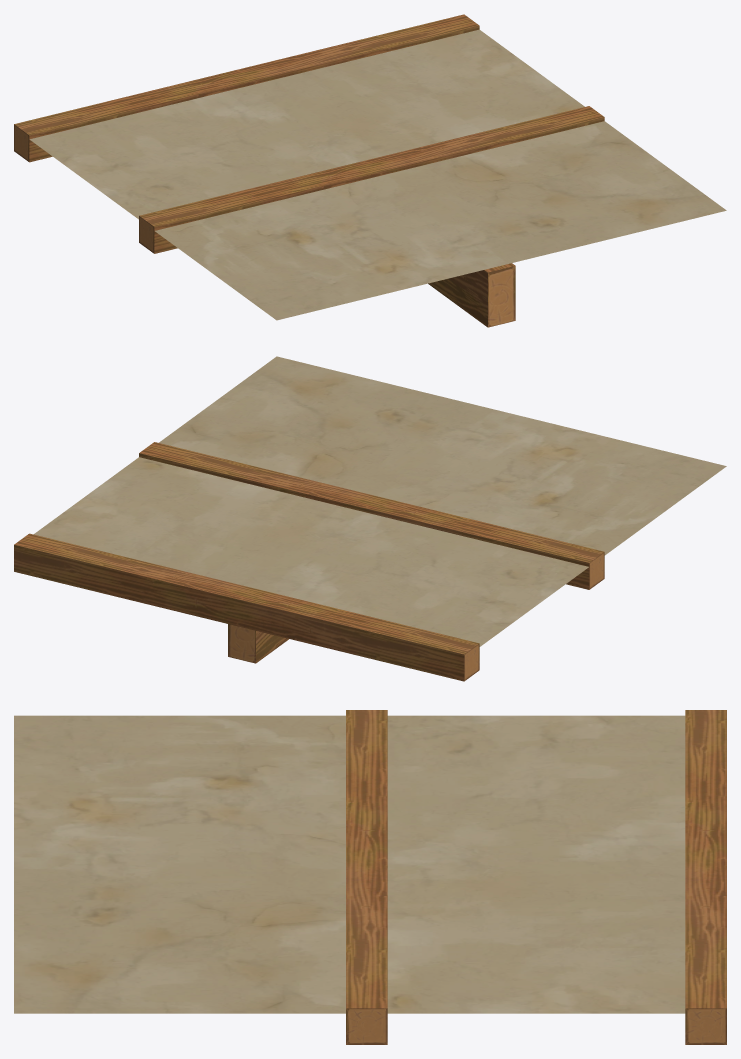
The model's file is Overhang_Roof_Plaster.gltf.
The picture shows the model from 3 angles, top to bottom: view 1: azimuth 30°, elevation 25°; view 2: azimuth 150°, elevation 25°; view 3: azimuth 270°, elevation 25°; orthographic projection. The views are drawn at different scales.
Visible parts, largest first — view 1: Overhang_Roof_Plaster; view 2: Overhang_Roof_Plaster; view 3: Overhang_Roof_Plaster.
Part boxes in pixels (x1,y1,x2,y2): Overhang_Roof_Plaster: (14,14,726,327); Overhang_Roof_Plaster: (14,356,726,681); Overhang_Roof_Plaster: (14,710,726,1044).
Size of the model in its own units: 2 by 0.2659 by 2.02.
2 materials, 2 textured.
